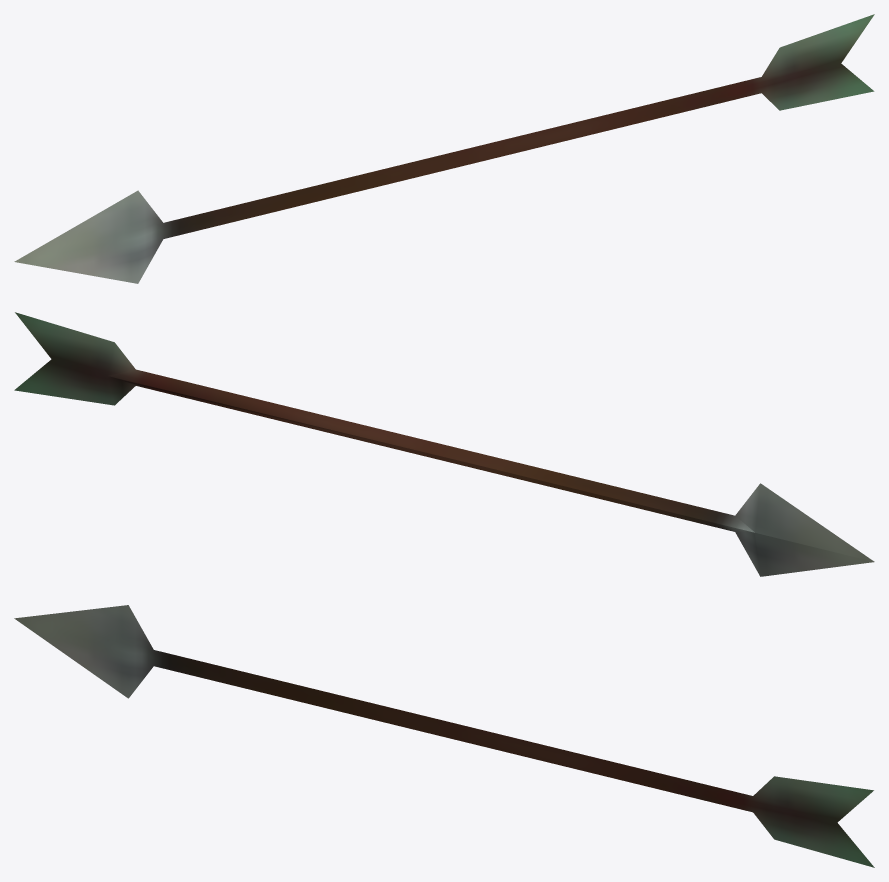
Rendered from standardArrow.glb.
3 views of the same model, one above another, from view 1: azimuth 30°, elevation 25°; view 2: azimuth 150°, elevation 25°; view 3: azimuth 330°, elevation 25° (orthographic).
Visible parts, largest first — view 1: standardArrow; view 2: standardArrow; view 3: standardArrow.
Part boxes in pixels (box(x1,y1,x2,y2)): standardArrow: box(14, 14, 874, 283); standardArrow: box(14, 312, 874, 576); standardArrow: box(14, 605, 874, 867).
Size of the model in its own units: 1.06 by 0.1099 by 0.0105.
Materials: 1 (1 with a texture image).
